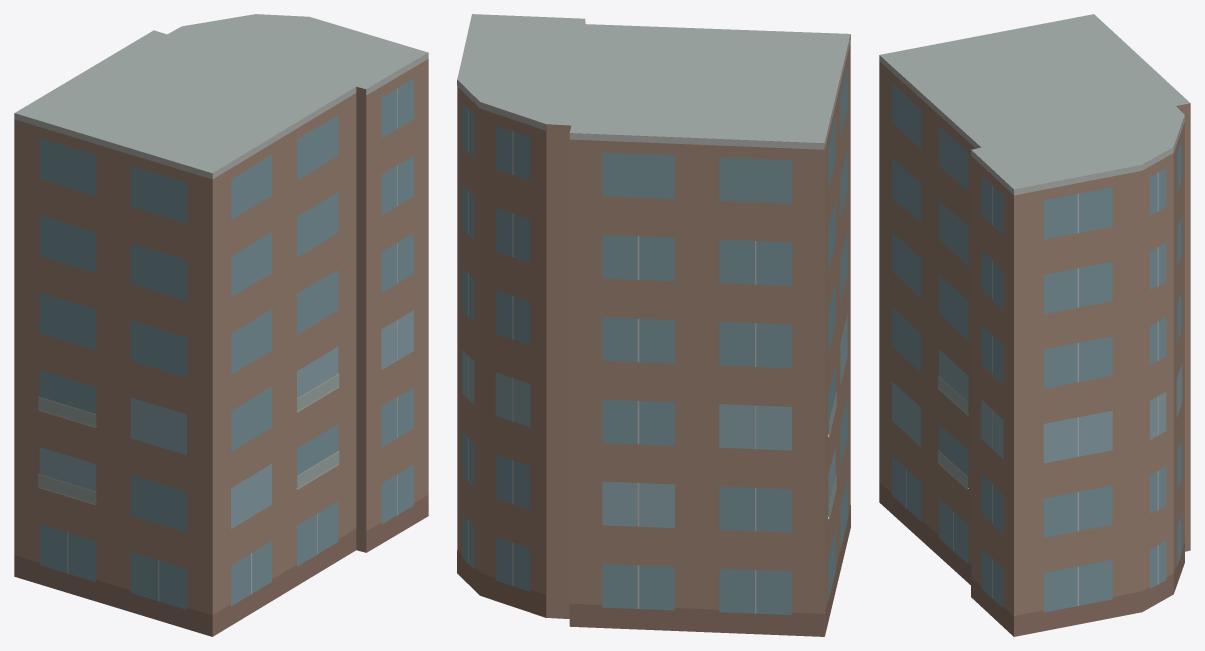
File: survey-upis-32983982.glb
3 renders of one model, left to right at view 1: azimuth 30°, elevation 25°; view 2: azimuth 150°, elevation 25°; view 3: azimuth 270°, elevation 25°, orthographic. The views are drawn at different scales.
Visible parts, largest first — view 1: survey-upis-32983982.tmp; view 2: survey-upis-32983982.tmp; view 3: survey-upis-32983982.tmp.
Part boxes in pixels (x1=…): survey-upis-32983982.tmp: x1=14, y1=14, x2=428, y2=636; survey-upis-32983982.tmp: x1=457, y1=14, x2=850, y2=636; survey-upis-32983982.tmp: x1=879, y1=14, x2=1190, y2=636.
Bounding box in the file's own units: 15.4 × 18.3 × 11.55.
